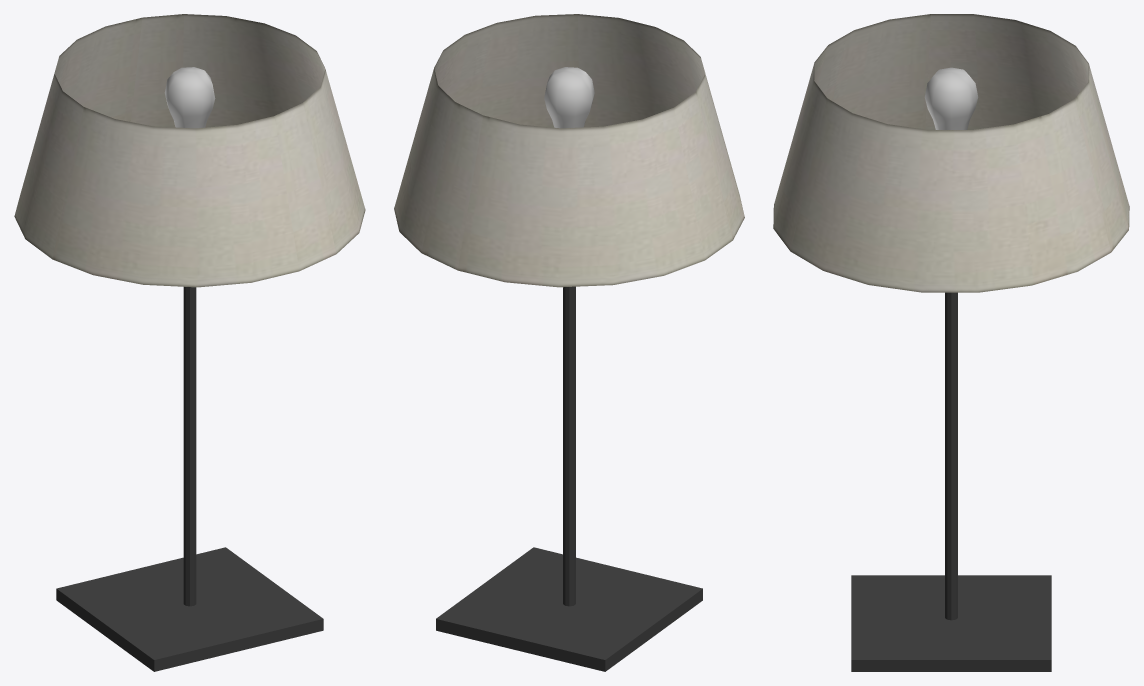
File: TableLamp01.fbx
The picture shows the model from 3 angles, left to right: view 1: azimuth 30°, elevation 25°; view 2: azimuth 150°, elevation 25°; view 3: azimuth 270°, elevation 25°; orthographic projection. The views are drawn at different scales.
Parts seen in each view (by area): view 1: Tulipa, Tulipa1, Lampara, Glass; view 2: Tulipa, Tulipa1, Lampara, Glass; view 3: Tulipa, Tulipa1, Lampara, Glass.
Boxes of the visible parts, box(x1,y1,x2,y2) form: Tulipa: box(14, 14, 365, 287); Tulipa1: box(16, 14, 365, 287); Lampara: box(56, 287, 323, 671); Glass: box(164, 67, 215, 128); Tulipa: box(394, 14, 744, 287); Tulipa1: box(395, 14, 743, 286); Lampara: box(436, 286, 702, 671); Glass: box(544, 67, 594, 128); Tulipa: box(773, 14, 1129, 292); Tulipa1: box(773, 14, 1129, 292); Lampara: box(851, 292, 1051, 671); Glass: box(924, 67, 978, 129).
Bounding box in the file's own units: 0.2666 × 0.4613 × 0.2666.
